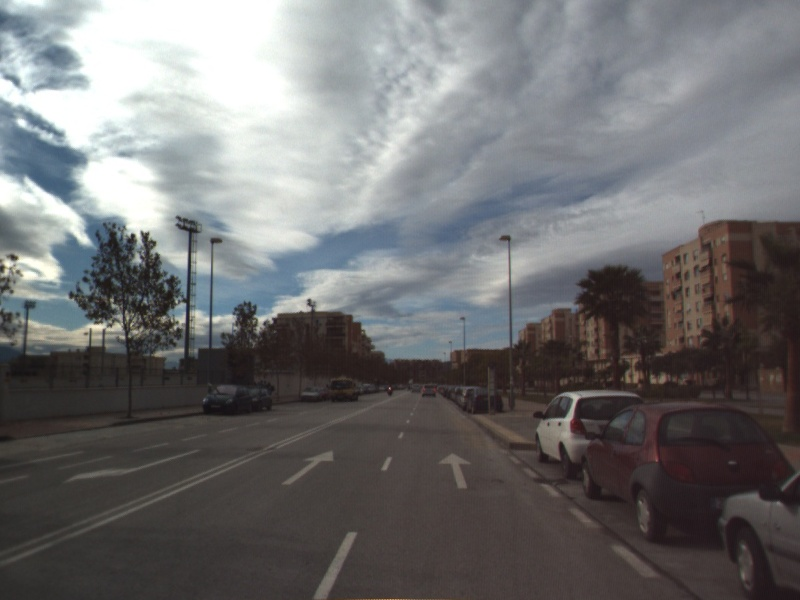STRAIGHT: (280, 449, 335, 486), (436, 451, 474, 490)
